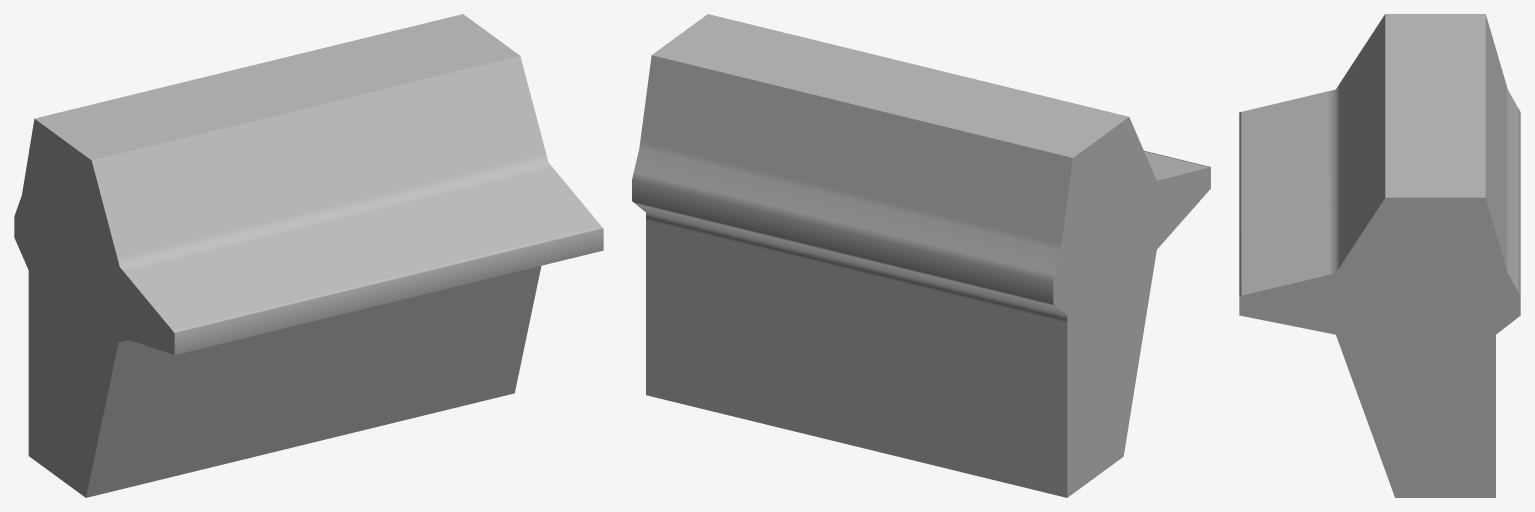
File: terminal.glb
The picture shows the model from 3 angles, left to right: view 1: azimuth 30°, elevation 25°; view 2: azimuth 150°, elevation 25°; view 3: azimuth 270°, elevation 25°; orthographic projection. The views are drawn at different scales.
Parts seen in each view (by area): view 1: pCube1; view 2: pCube1; view 3: pCube1.
Boxes of the visible parts, box(x1,y1,x2,y2) form: pCube1: box(14, 14, 603, 497); pCube1: box(632, 14, 1210, 497); pCube1: box(1239, 14, 1520, 497).
Size of the model in its own units: 4.31 by 3.28 by 2.79.
1 material, 1 textured.
